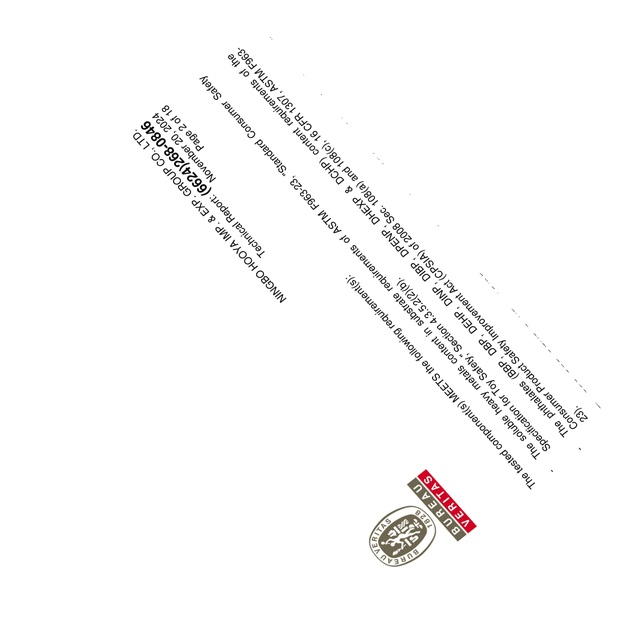bureau_veritas: (368, 467, 475, 569)
